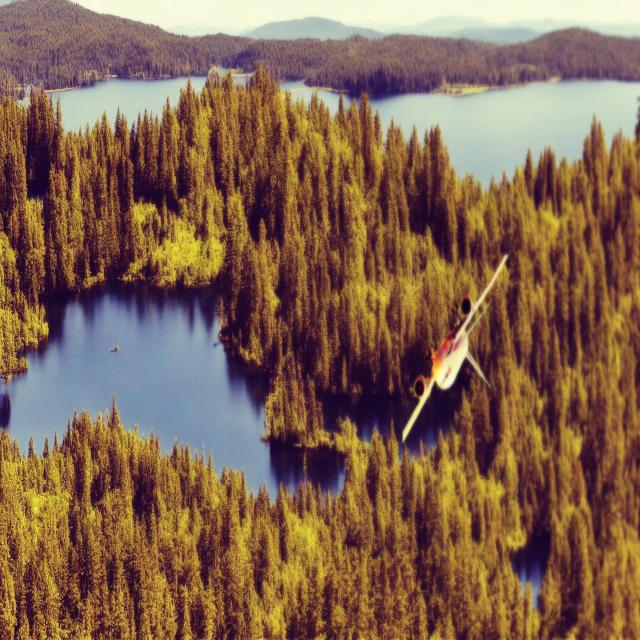airplane: (401, 253, 509, 442)
